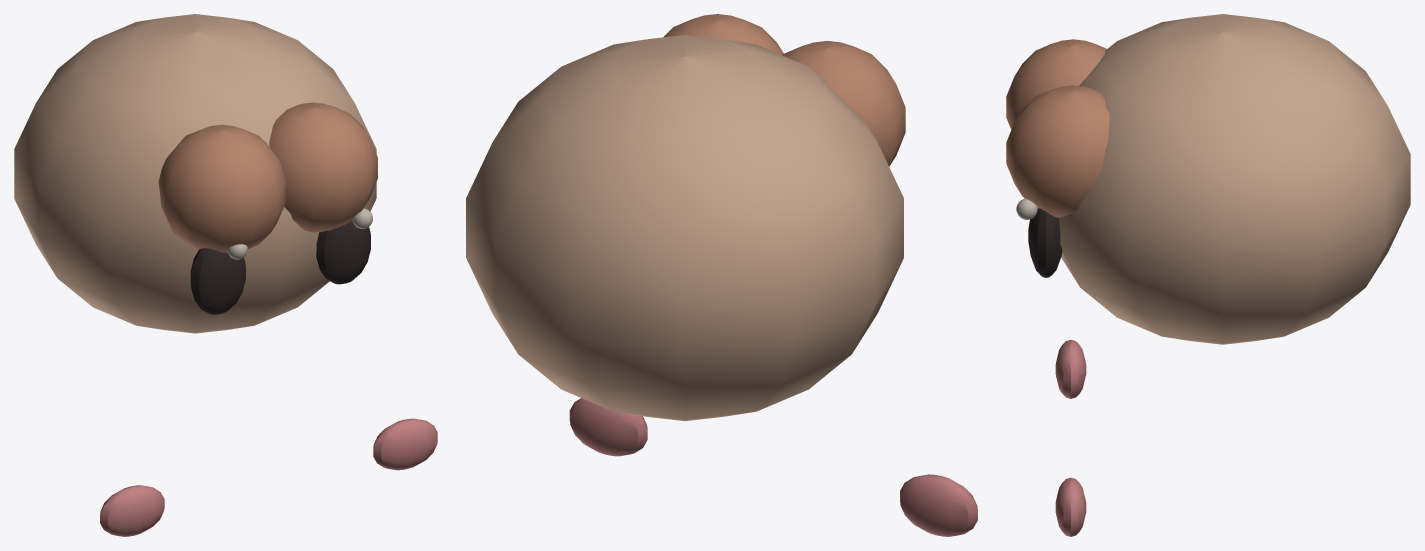
The picture shows the model from 3 angles, left to right: view 1: azimuth 30°, elevation 25°; view 2: azimuth 150°, elevation 25°; view 3: azimuth 270°, elevation 25°; orthographic projection. The views are drawn at different scales.
Parts seen in each view (by area): view 1: pet_p0de62998; view 2: pet_p0de62998; view 3: pet_p0de62998.
Boxes of the visible parts, x1,y1,x2,y2 form: pet_p0de62998: (14,14,437,536); pet_p0de62998: (466,14,977,536); pet_p0de62998: (1006,14,1410,536).
Size of the model in its own units: 0.2967 by 0.3492 by 0.2971.
